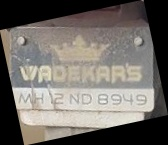character: (97, 92, 109, 106), (135, 92, 147, 106), (68, 92, 80, 105), (80, 92, 92, 105), (110, 92, 122, 105), (122, 92, 133, 105)
